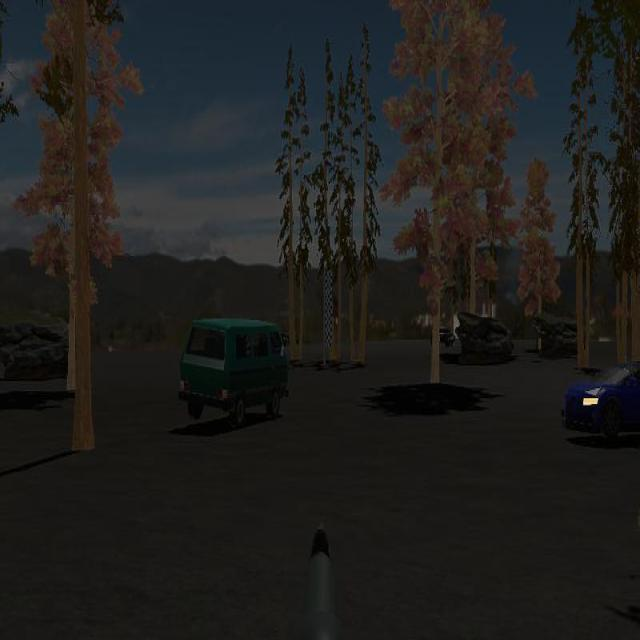car: (179, 316, 289, 427), (561, 361, 640, 445)
